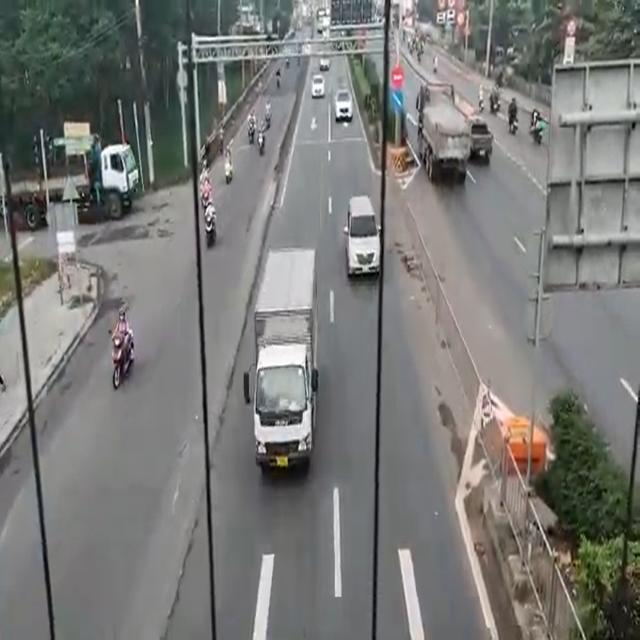car: (342, 188, 382, 278), (335, 84, 353, 125), (310, 66, 325, 102)
motor: (110, 309, 138, 393), (201, 194, 218, 256), (222, 147, 236, 194), (244, 105, 255, 149), (508, 90, 519, 133), (257, 117, 267, 162)
truck: (254, 248, 320, 464), (7, 137, 137, 235), (415, 84, 470, 187)
